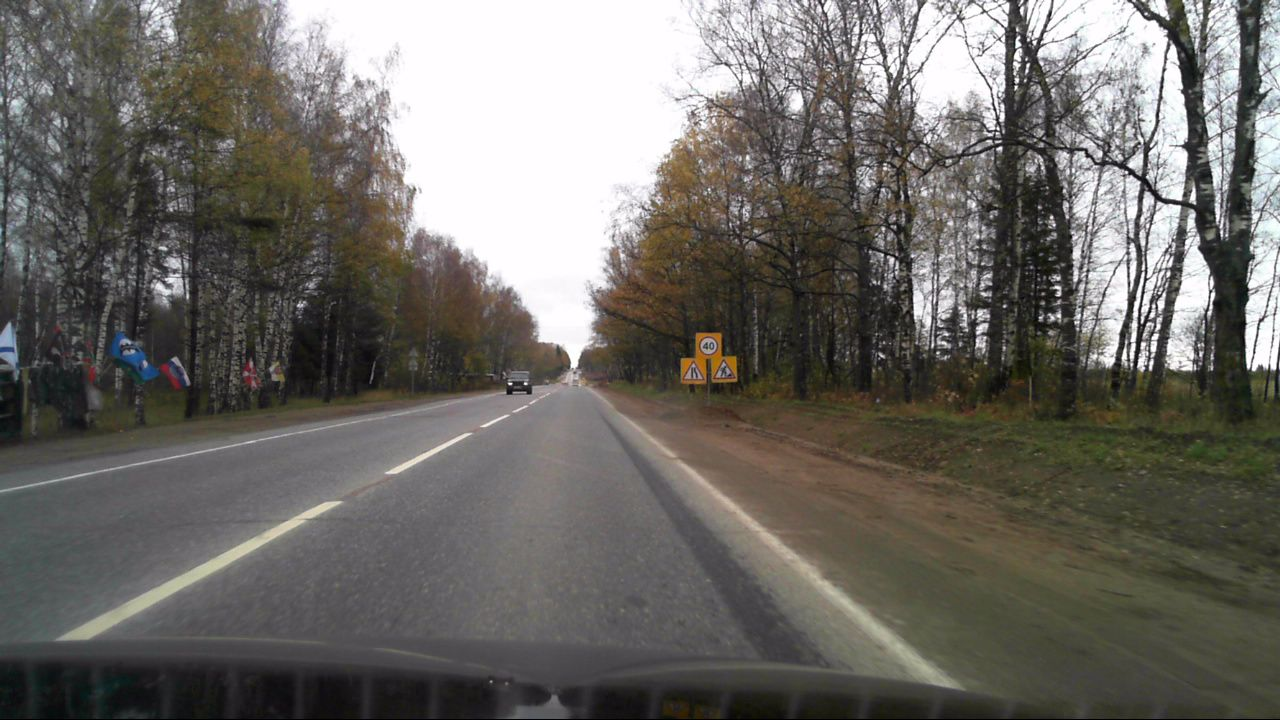speed_warning_40: (696, 332, 721, 357)
